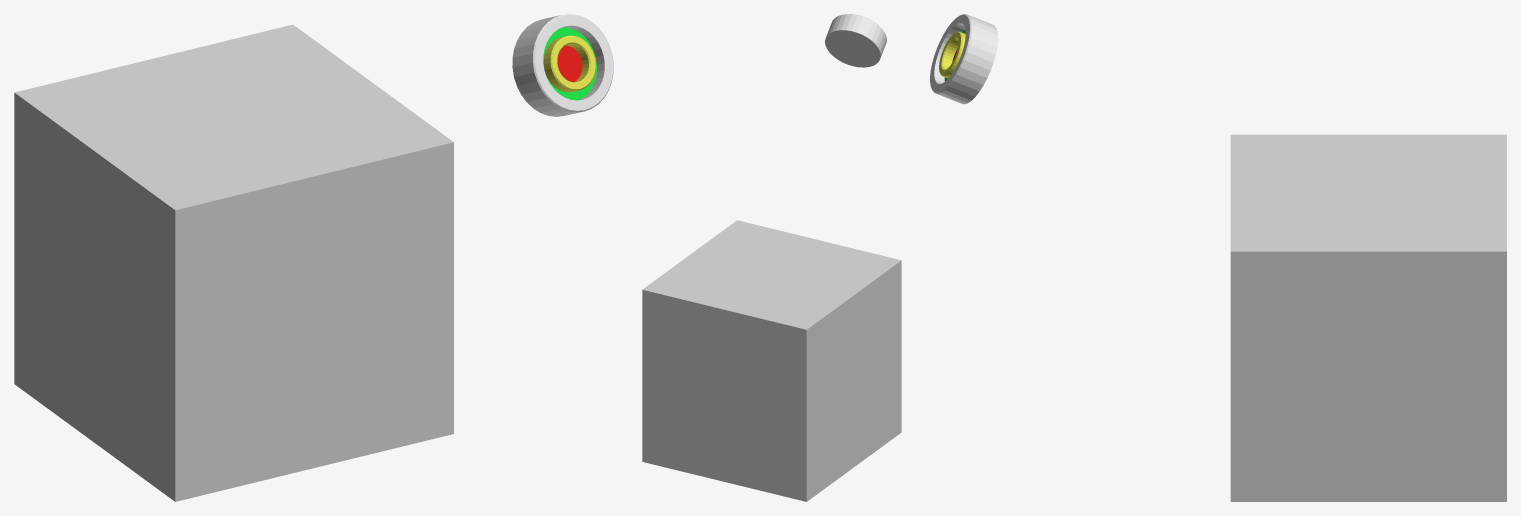
File: N_Reyeball_Normal.fbx
3 views of the same model, side by side, from view 1: azimuth 30°, elevation 25°; view 2: azimuth 150°, elevation 25°; view 3: azimuth 270°, elevation 25° (orthographic). The views are drawn at different scales.
Visible parts, largest first — view 1: Cube, eye ball.002; view 2: Cube, eye ball.002; view 3: Cube, eye ball.002.
Part boxes in pixels (bbox=[...]): Cube: bbox=[14, 24, 453, 501]; eye ball.002: bbox=[512, 14, 613, 116]; Cube: bbox=[642, 220, 901, 501]; eye ball.002: bbox=[825, 14, 886, 67]; Cube: bbox=[1230, 134, 1506, 501]; eye ball.002: bbox=[930, 14, 998, 104].
Bounding box in the file's own units: 200 × 371 × 418.
